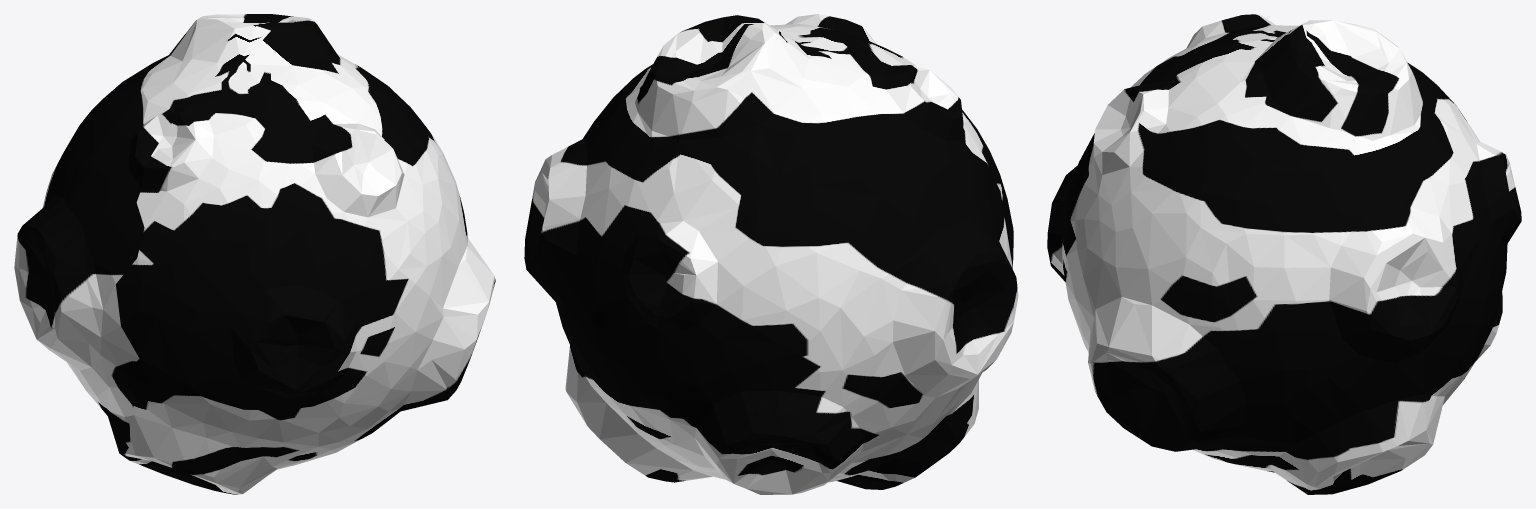
Rendered from SM_Env_Asteroid_Round_07.fbx.
The picture shows the model from 3 angles, left to right: view 1: azimuth 30°, elevation 25°; view 2: azimuth 150°, elevation 25°; view 3: azimuth 270°, elevation 25°; orthographic projection. The views are drawn at different scales.
Visible parts, largest first — view 1: SM_Env_Asteroid_Round_07_LOD0; view 2: SM_Env_Asteroid_Round_07_LOD0; view 3: SM_Env_Asteroid_Round_07_LOD0.
Part boxes in pixels (x1,y1,x2,y2): SM_Env_Asteroid_Round_07_LOD0: (14, 14, 495, 494); SM_Env_Asteroid_Round_07_LOD0: (524, 14, 1018, 494); SM_Env_Asteroid_Round_07_LOD0: (1047, 14, 1521, 494).
Bounding box in the file's own units: 26508 × 26599 × 27188.
Materials: 1 (1 with a texture image).
